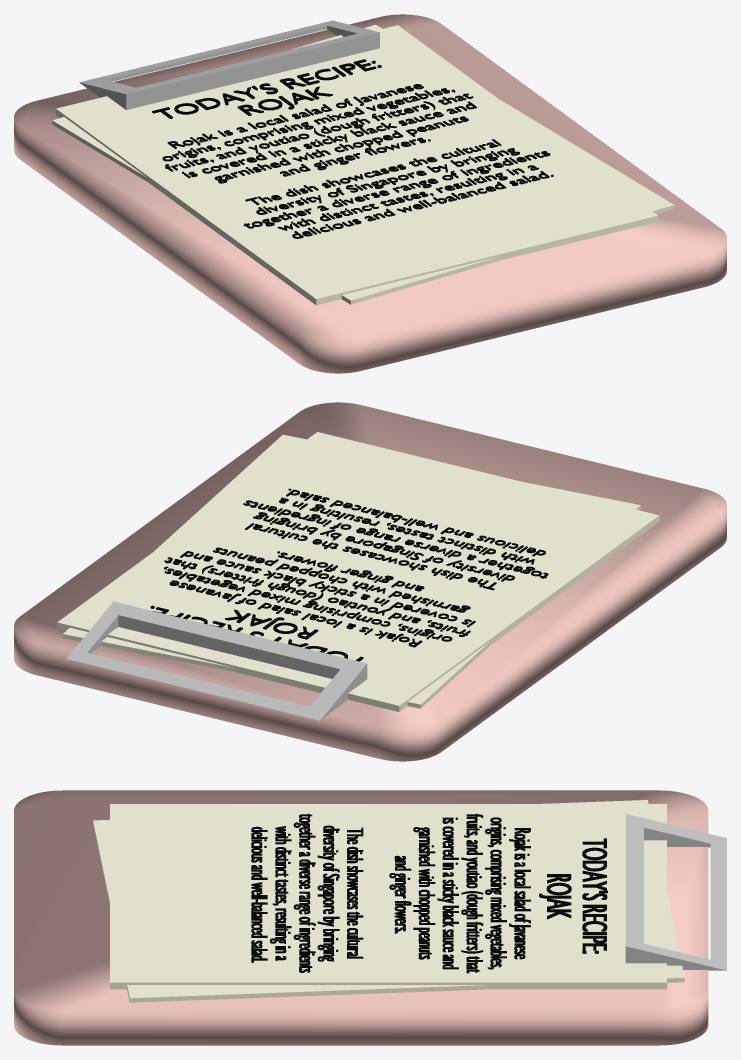
File: Rclipboard.fbx
3 views of the same model, one above another, from view 1: azimuth 30°, elevation 25°; view 2: azimuth 150°, elevation 25°; view 3: azimuth 270°, elevation 25° (orthographic). The views are drawn at different scales.
Visible parts, largest first — view 1: Cube.004, obj_0.005, Text.003, Cube.003, Cube.005, Text.004; view 2: Cube.004, obj_0.005, Text.003, Cube.003, Cube.005, Text.004; view 3: Cube.004, obj_0.005, Text.003, Cube.003, Cube.005, Text.004.
Part boxes in pixels (x1,y1,x2,y2): Cube.004: (56, 25, 658, 305); obj_0.005: (14, 14, 726, 373); Text.003: (162, 84, 553, 238); Cube.003: (79, 20, 379, 109); Cube.005: (52, 24, 674, 304); Text.004: (152, 59, 381, 118); Cube.004: (57, 432, 659, 711); obj_0.005: (14, 402, 726, 761); Text.003: (164, 488, 548, 647); Cube.003: (66, 601, 367, 720); Cube.005: (63, 434, 640, 708); Text.004: (150, 605, 363, 661); Cube.004: (110, 804, 666, 989); obj_0.005: (14, 790, 708, 1045); Text.003: (251, 813, 530, 973); Cube.003: (625, 814, 726, 970); Cube.005: (93, 800, 684, 1002); Text.004: (539, 838, 607, 953).
Bounding box in the file's own units: 263 × 32.69 × 360.
